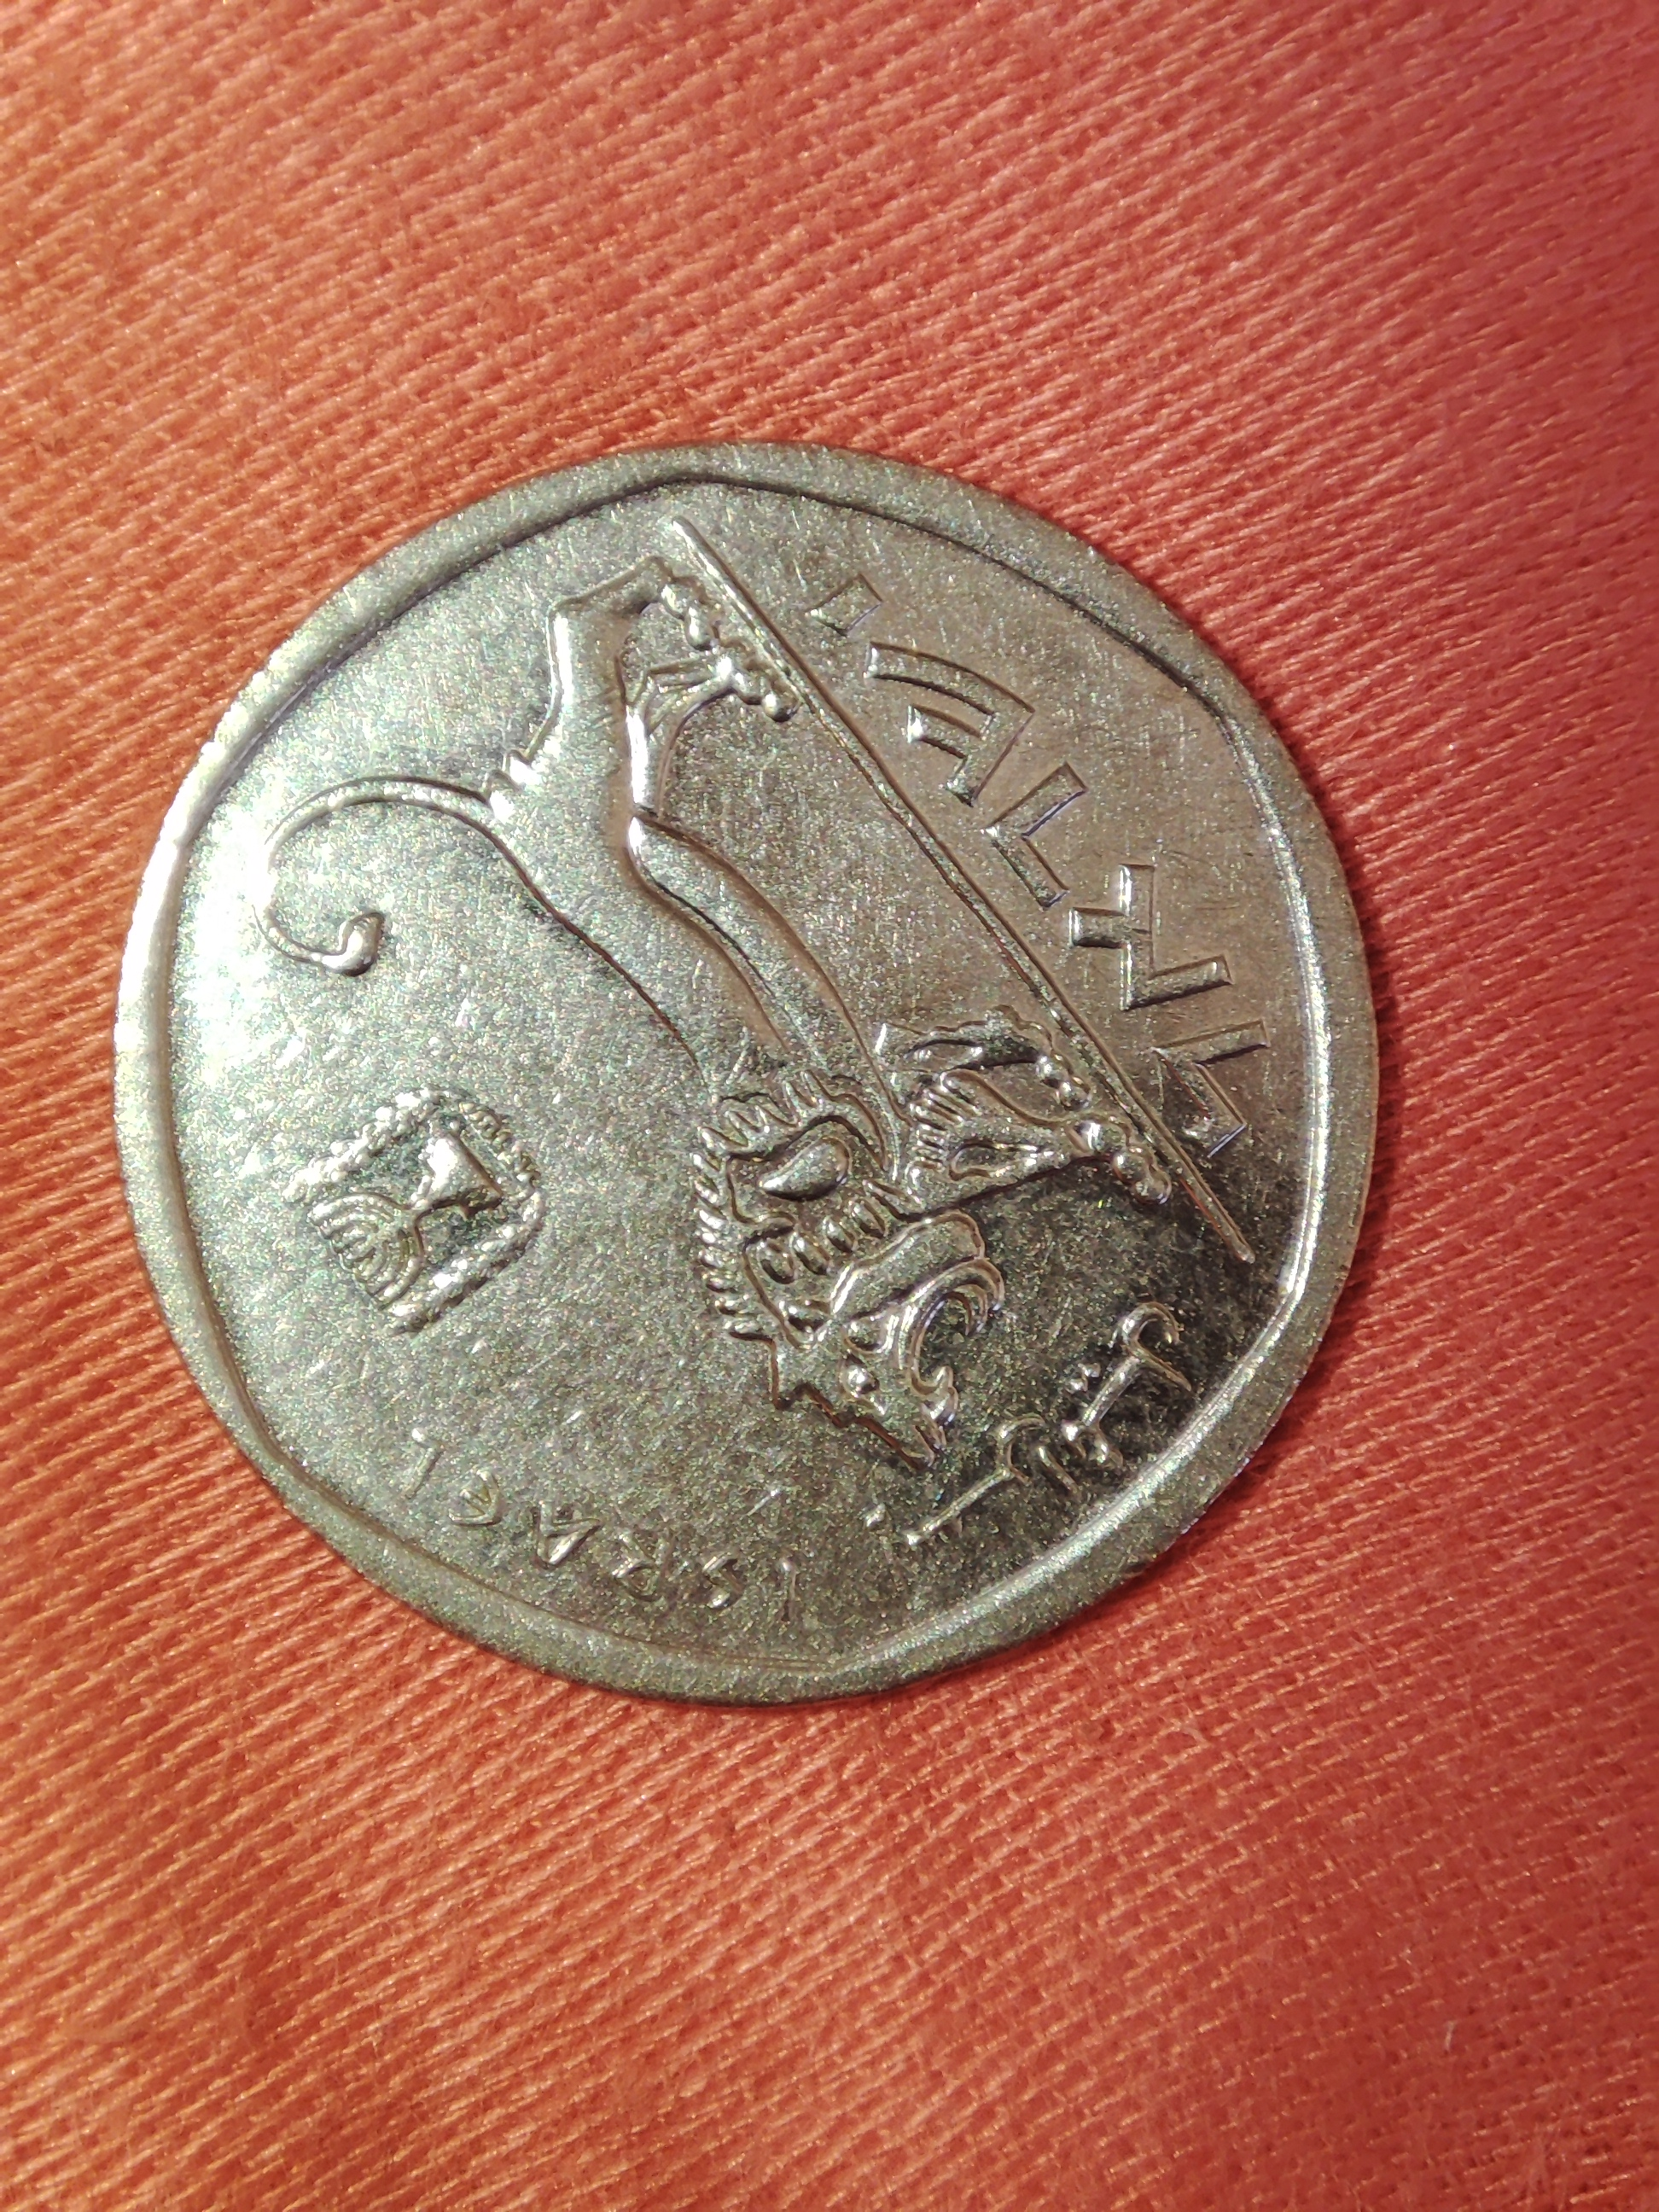1/2 old sheqel: (99, 435, 1401, 1721)
